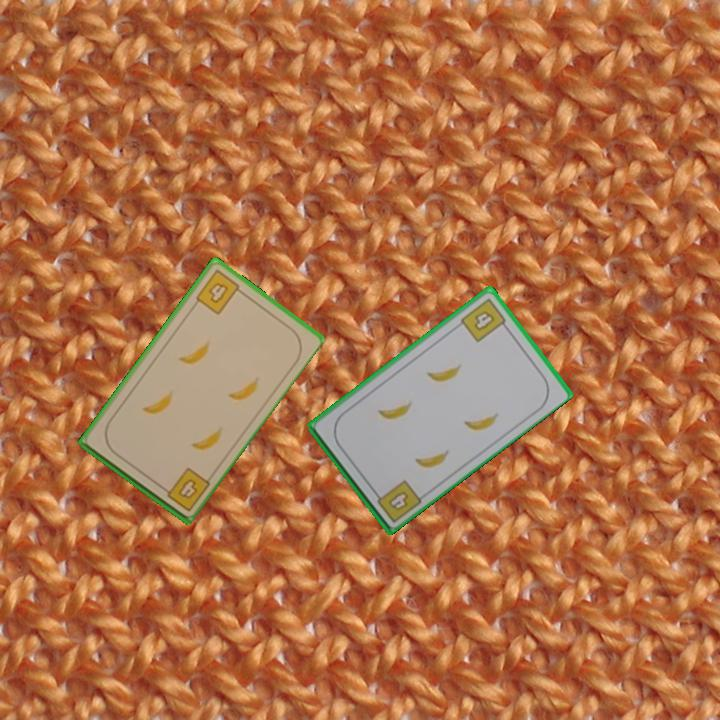4b: (192, 266, 247, 318), (457, 294, 511, 345), (157, 464, 212, 514), (369, 476, 424, 525)
